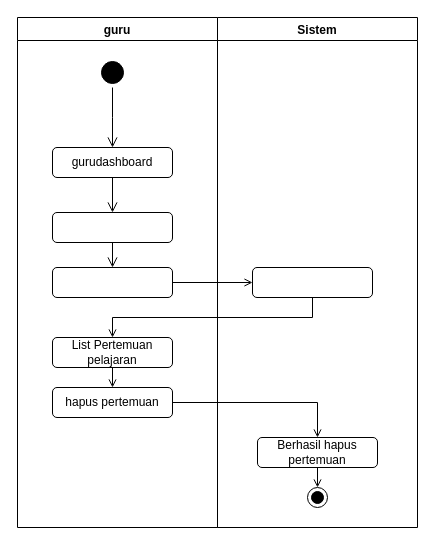
Image size: 435x545. Some labels were removed from this diagram. The shapes that lost their labels are listed below. From the top down, each one's centre as x and y in pixels, then its label:
At pixel 112 227: "Pilih menu Matpel".
At pixel 112 282: "Pilih Matpel".
At pixel 312 282: "Get id_pelajaran".
